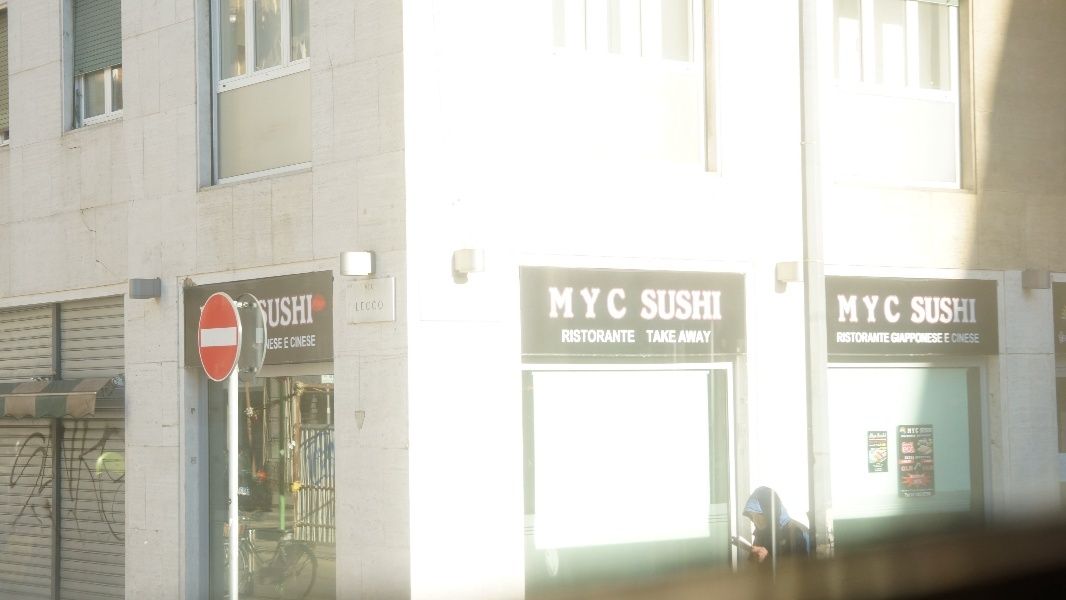text: (561, 286, 576, 322), (577, 286, 592, 322), (593, 286, 608, 322), (609, 286, 624, 322), (641, 290, 656, 322), (657, 290, 672, 322), (673, 290, 688, 322), (689, 290, 704, 322), (705, 290, 720, 322), (849, 294, 864, 326), (865, 294, 880, 326), (881, 294, 896, 326), (257, 295, 272, 327), (273, 295, 288, 327), (289, 295, 304, 327), (547, 286, 560, 322), (913, 294, 928, 325), (929, 294, 944, 325), (945, 294, 960, 325), (961, 294, 976, 325), (837, 294, 848, 326), (305, 295, 313, 327), (561, 329, 576, 346), (577, 329, 592, 346), (593, 329, 608, 346), (609, 329, 624, 346), (657, 329, 672, 344), (849, 332, 864, 346), (865, 332, 880, 346), (689, 330, 704, 344), (625, 329, 637, 346), (897, 332, 912, 344), (913, 332, 928, 344), (929, 332, 944, 344), (291, 335, 304, 348), (881, 332, 893, 346), (369, 301, 383, 313), (961, 333, 976, 344), (837, 332, 848, 346), (646, 329, 656, 344), (356, 301, 368, 313), (305, 335, 316, 348), (678, 330, 688, 344), (897, 294, 901, 326), (273, 338, 283, 350), (625, 286, 628, 322), (721, 290, 724, 322), (952, 333, 960, 344), (705, 330, 711, 344), (265, 338, 272, 350), (903, 446, 912, 453), (977, 294, 979, 325), (673, 329, 677, 344), (891, 332, 896, 344), (945, 333, 950, 344), (902, 466, 912, 471), (870, 434, 880, 439), (920, 428, 928, 434), (869, 443, 880, 447), (284, 338, 288, 348), (915, 456, 928, 459), (871, 447, 880, 451), (977, 333, 980, 344), (901, 435, 912, 438), (917, 435, 928, 438), (911, 294, 912, 325), (913, 428, 918, 434), (902, 461, 912, 464), (881, 434, 887, 439), (905, 456, 912, 460), (881, 447, 888, 451), (369, 285, 374, 290), (923, 466, 928, 471), (929, 466, 934, 471), (908, 428, 912, 434), (881, 443, 887, 447), (869, 441, 880, 443), (929, 428, 932, 434), (881, 441, 887, 444), (365, 285, 368, 290), (913, 446, 915, 453), (874, 441, 880, 443), (348, 285, 352, 288), (913, 435, 916, 438), (913, 456, 915, 460), (924, 460, 928, 462), (929, 435, 931, 438), (929, 456, 931, 459), (929, 460, 932, 462), (878, 441, 880, 444), (913, 466, 914, 471)
